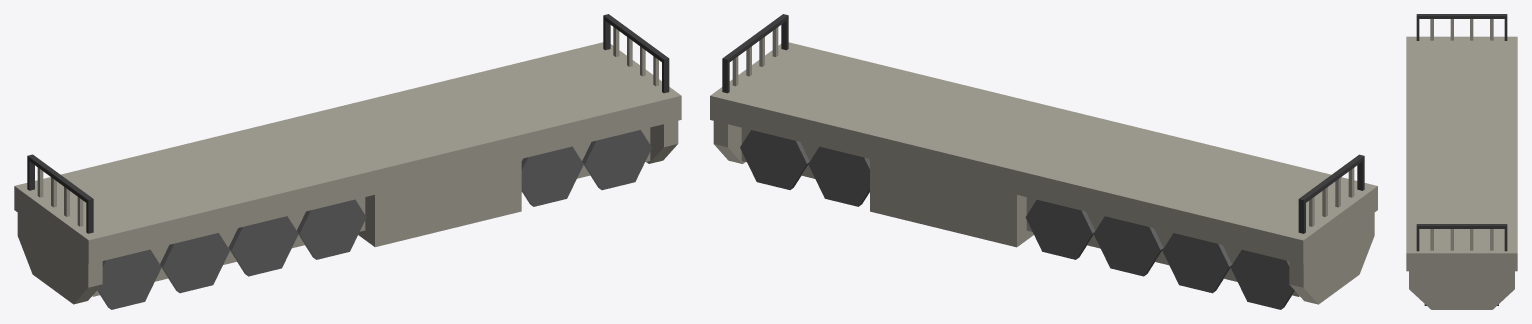
File: Train_Carriage.fbx
The picture shows the model from 3 angles, left to right: view 1: azimuth 30°, elevation 25°; view 2: azimuth 150°, elevation 25°; view 3: azimuth 270°, elevation 25°; orthographic projection. The views are drawn at different scales.
Parts seen in each view (by area): view 1: Train_Carriage; view 2: Train_Carriage; view 3: Train_Carriage.
Boxes of the visible parts, x1,y1,x2,y2 form: Train_Carriage: (14, 14, 681, 309); Train_Carriage: (710, 14, 1377, 309); Train_Carriage: (1406, 14, 1517, 309).
Bounding box in the file's own units: 16.98 × 3.3 × 3.69.
Materials: 1 (1 with a texture image).
